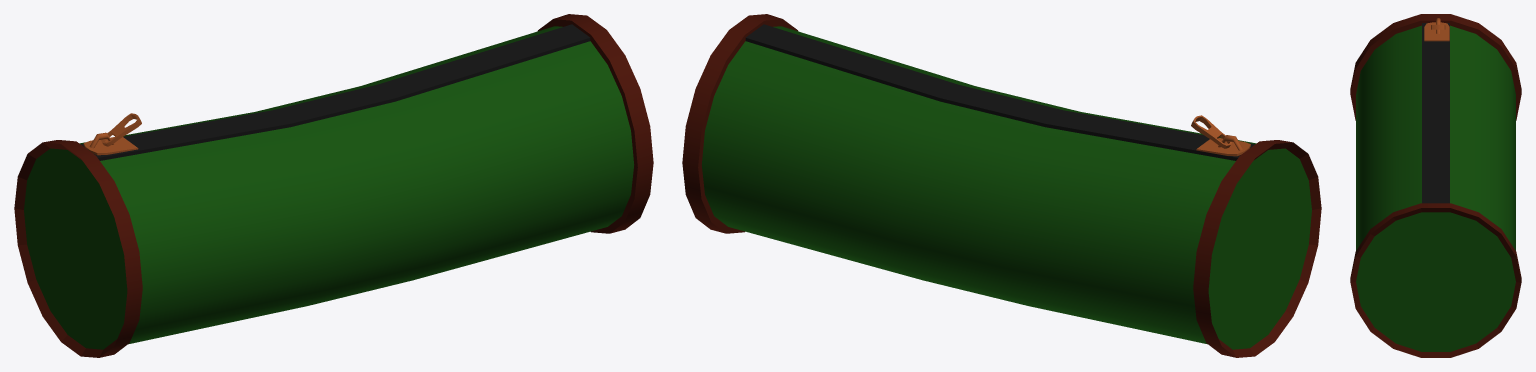
Rendered from Trousse_01.fbx.
The picture shows the model from 3 angles, left to right: view 1: azimuth 30°, elevation 25°; view 2: azimuth 150°, elevation 25°; view 3: azimuth 270°, elevation 25°; orthographic projection. The views are drawn at different scales.
Parts seen in each view (by area): view 1: Trousse_01; view 2: Trousse_01; view 3: Trousse_01.
Boxes of the visible parts, x1,y1,x2,y2 form: Trousse_01: (14,14,653,357); Trousse_01: (682,14,1321,357); Trousse_01: (1350,14,1521,357).
Size of the model in its own units: 22.5 by 8.38 by 8.88.
